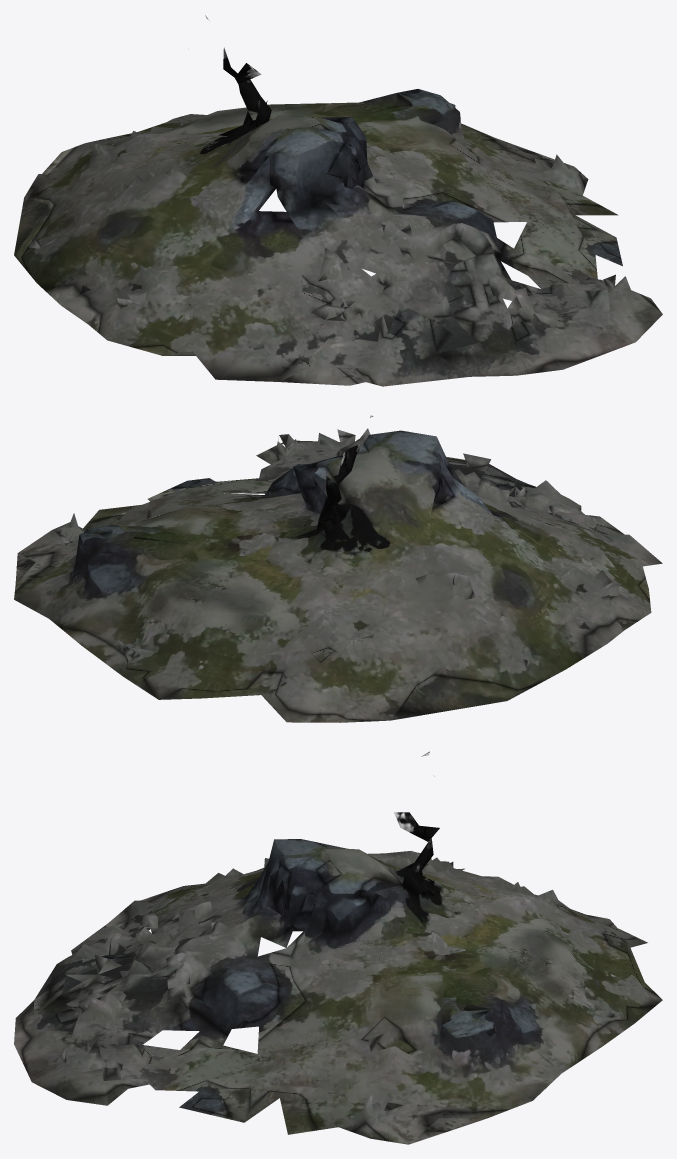
Rendered from hill-2.glb.
3 renders of one model, top to bottom at view 1: azimuth 30°, elevation 25°; view 2: azimuth 150°, elevation 25°; view 3: azimuth 270°, elevation 25°, orthographic. The views are drawn at different scales.
Parts seen in each view (by area): view 1: geometry_0; view 2: geometry_0; view 3: geometry_0.
Boxes of the visible parts, x1,y1,x2,y2 form: geometry_0: (14,15,662,386); geometry_0: (14,415,662,722); geometry_0: (14,751,662,1144).
Bounding box in the file's own units: 0.8721 × 0.3546 × 0.9253.
1 material, 1 textured.
